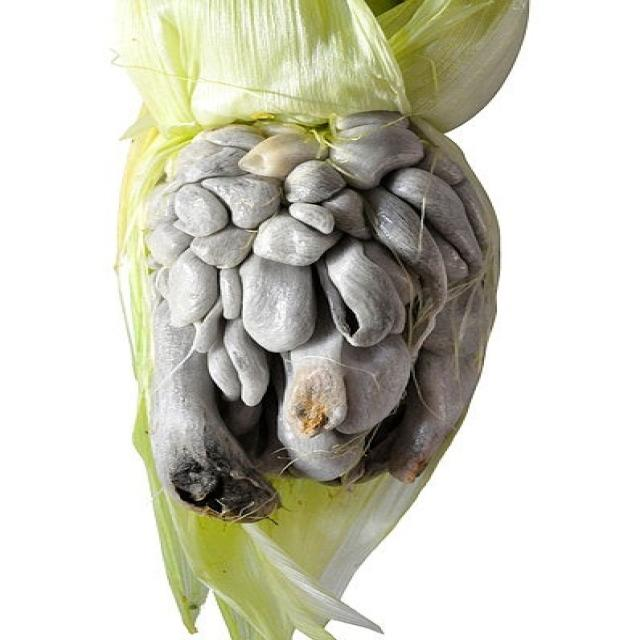Leaf_Scald: (67, 80, 529, 556)
